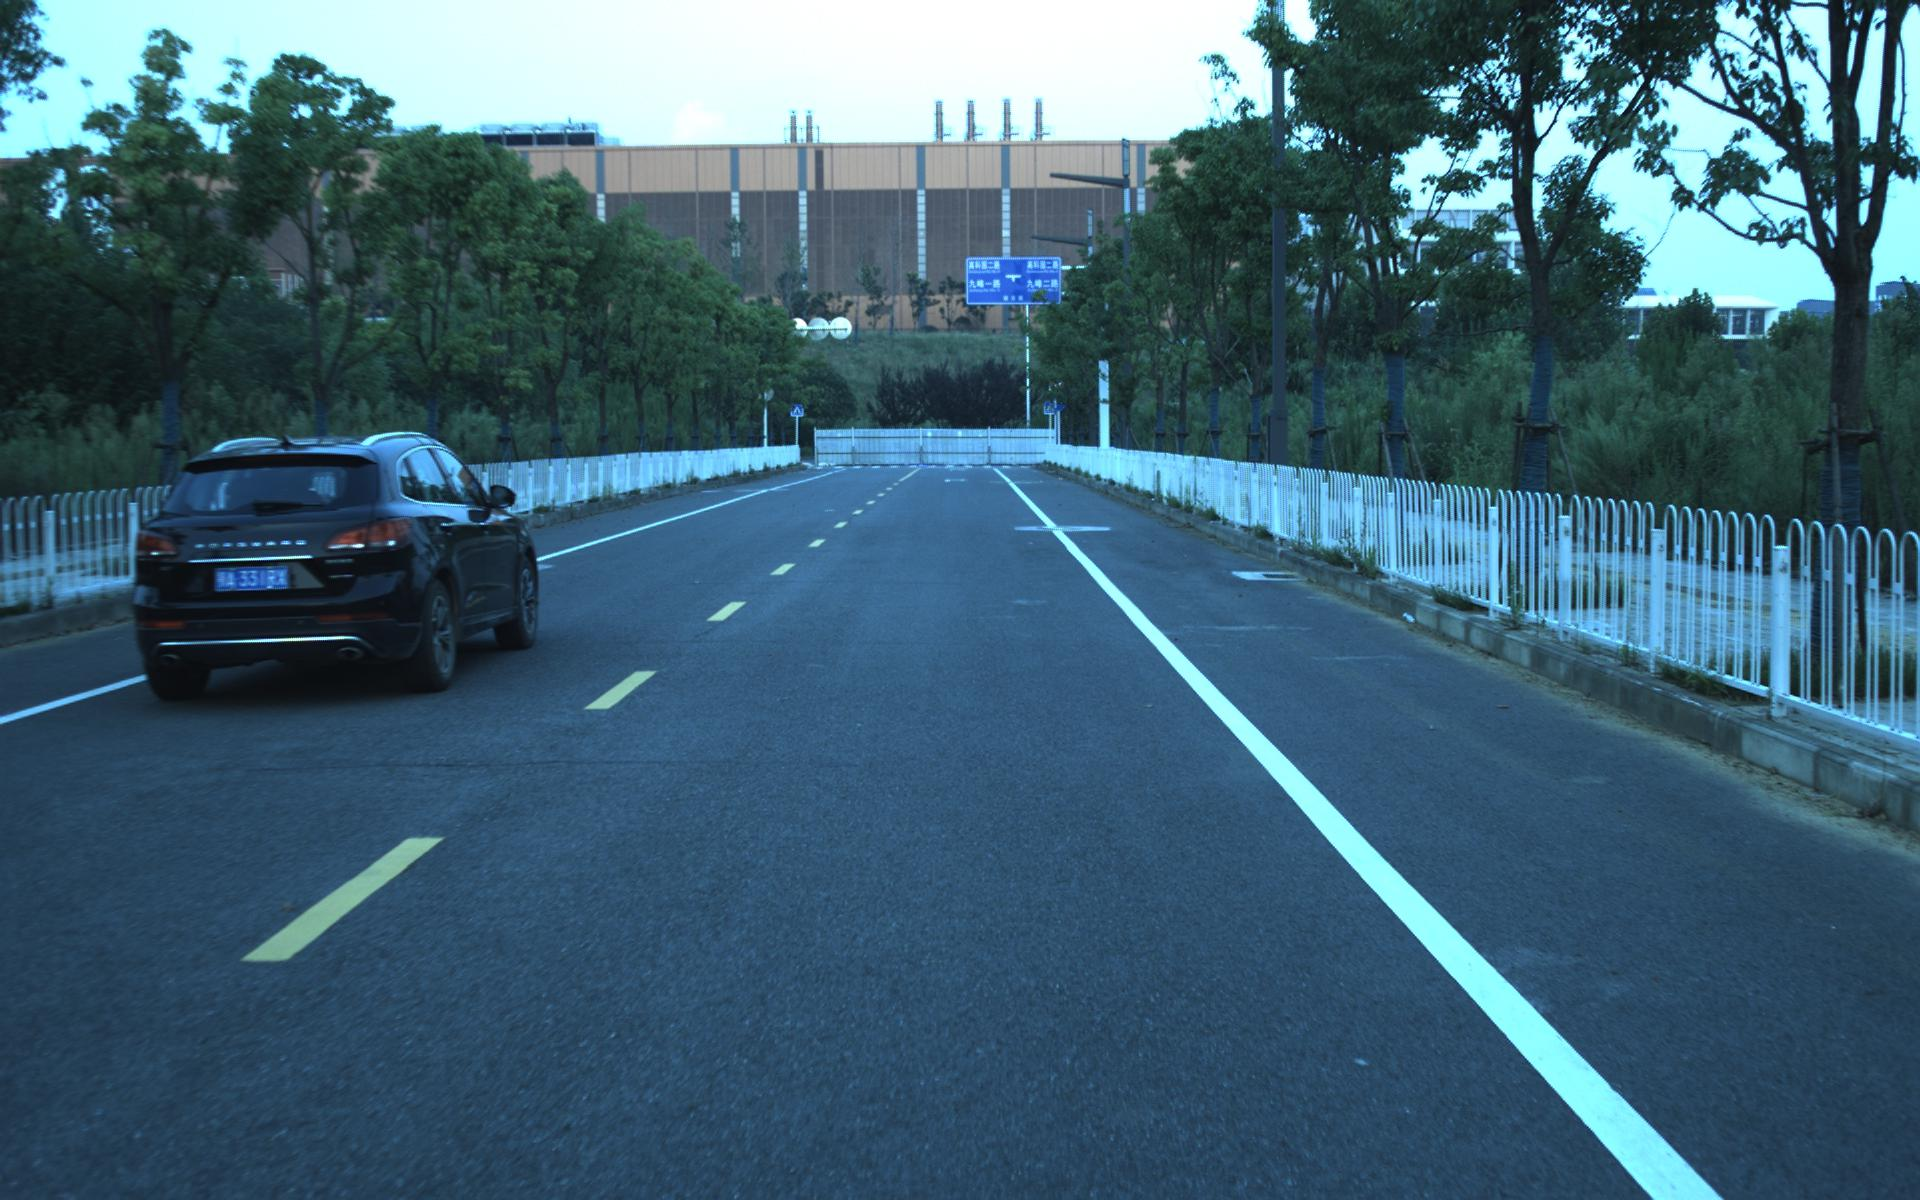Car: (112, 422, 547, 704)
